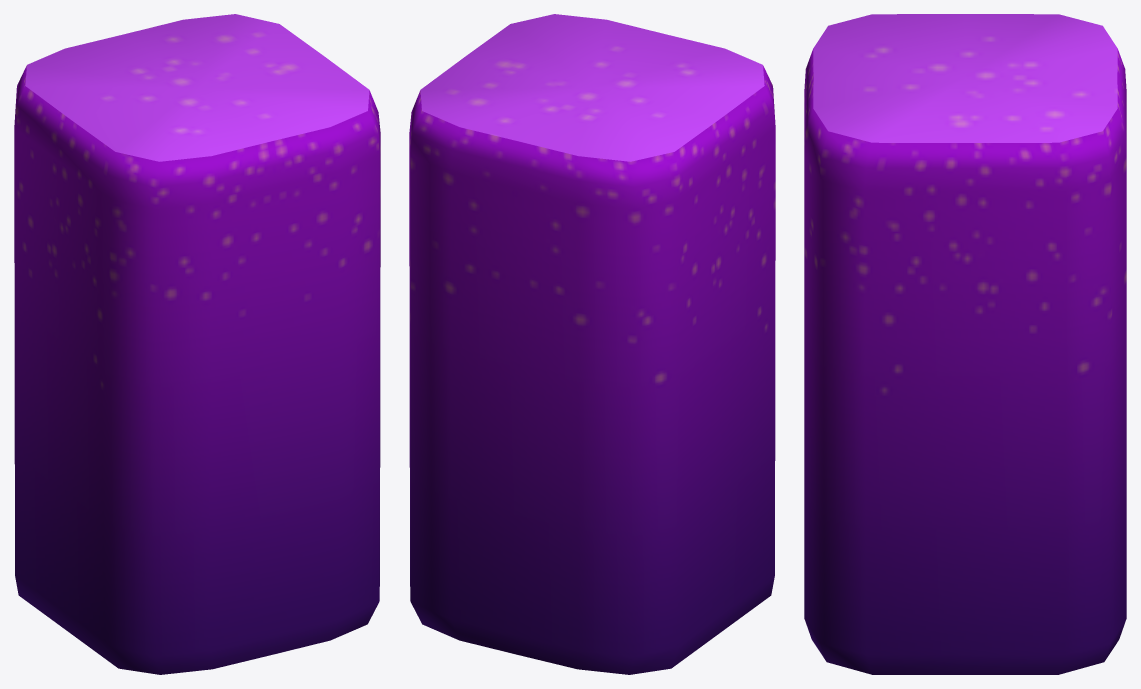
File: Juice_Bottle_Liquid002.FBX
3 renders of one model, left to right at view 1: azimuth 30°, elevation 25°; view 2: azimuth 150°, elevation 25°; view 3: azimuth 270°, elevation 25°, orthographic. The views are drawn at different scales.
Parts seen in each view (by area): view 1: Juice_Bottle_Liquid002; view 2: Juice_Bottle_Liquid002; view 3: Juice_Bottle_Liquid002.
Part boxes in pixels (box(x1,y1,x2,y2)): Juice_Bottle_Liquid002: box(14, 14, 380, 674); Juice_Bottle_Liquid002: box(409, 14, 775, 674); Juice_Bottle_Liquid002: box(804, 14, 1126, 674).
Bounding box in the file's own units: 9.49 × 17.28 × 9.5.
